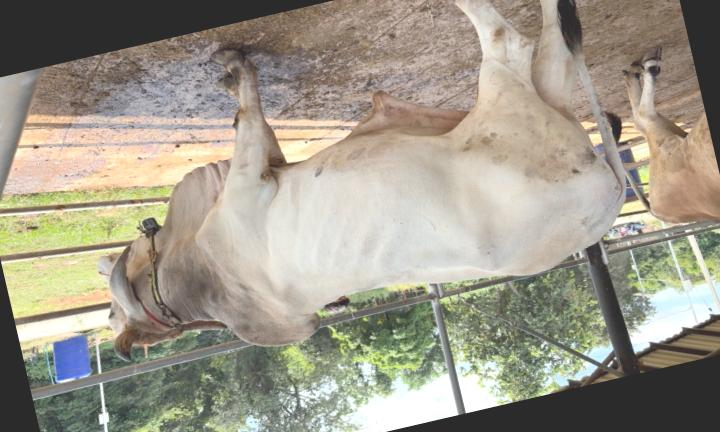Brahman: (110, 0, 625, 360)
